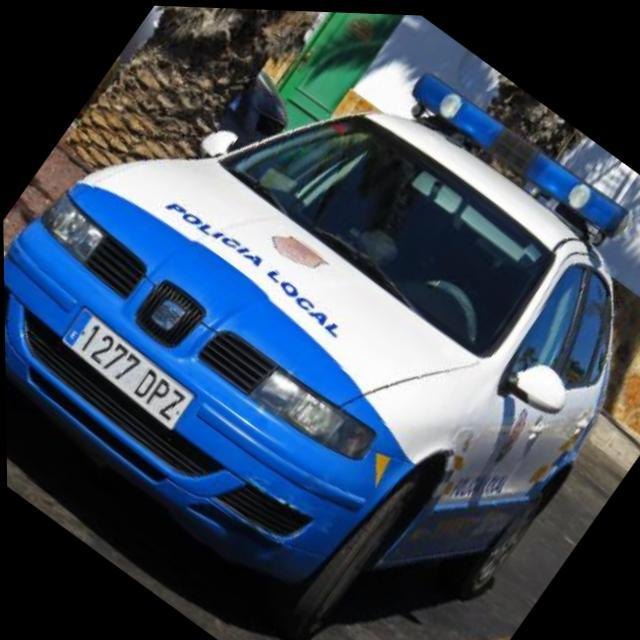license_plate: (54, 306, 196, 431)
